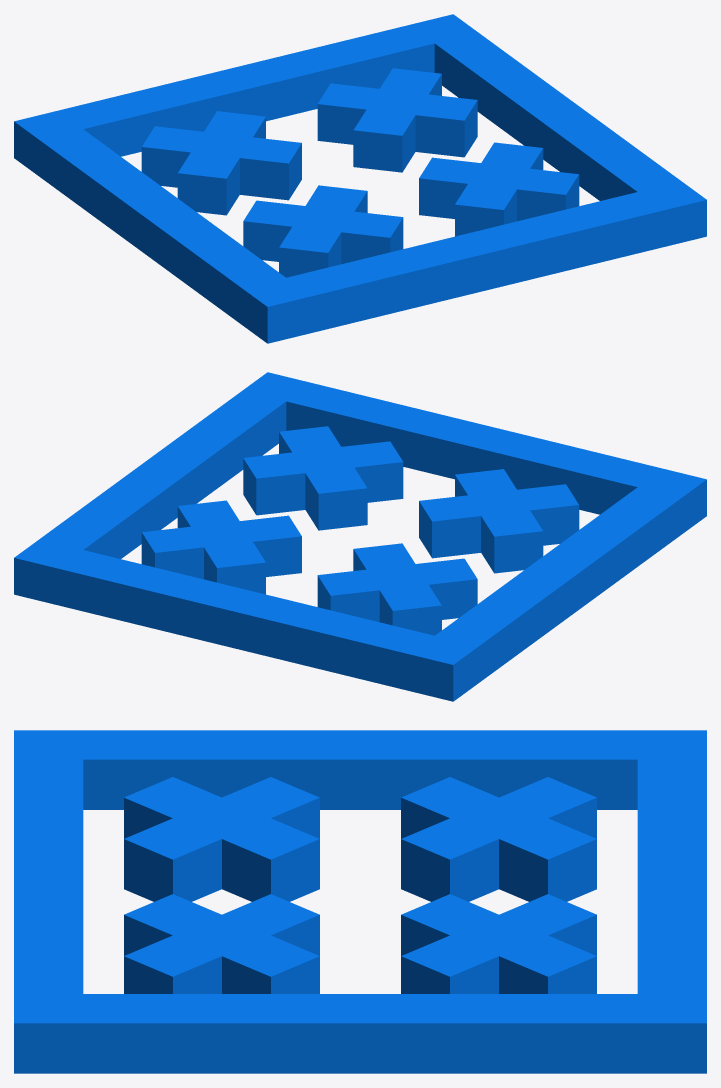
The model's file is pu_extraPoints.fbx.
3 renders of one model, top to bottom at view 1: azimuth 30°, elevation 25°; view 2: azimuth 150°, elevation 25°; view 3: azimuth 270°, elevation 25°, orthographic. The views are drawn at different scales.
Parts seen in each view (by area): view 1: pu_extraPoints; view 2: pu_extraPoints; view 3: pu_extraPoints.
Boxes of the visible parts, x1=… form: pu_extraPoints: x1=14, y1=14, x2=706, y2=343; pu_extraPoints: x1=14, y1=372, x2=706, y2=701; pu_extraPoints: x1=14, y1=730, x2=706, y2=1073.
Bounding box in the file's own units: 1 × 0.08 × 1.
